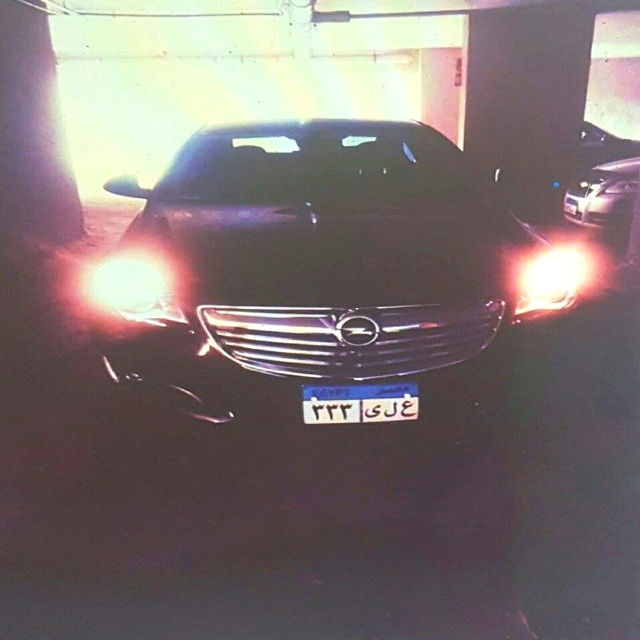License Plate: (298, 381, 422, 426)
